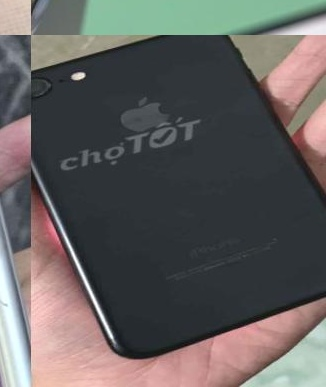scratch: (0, 282, 24, 325), (31, 69, 58, 100), (267, 229, 288, 247), (318, 272, 326, 291)
